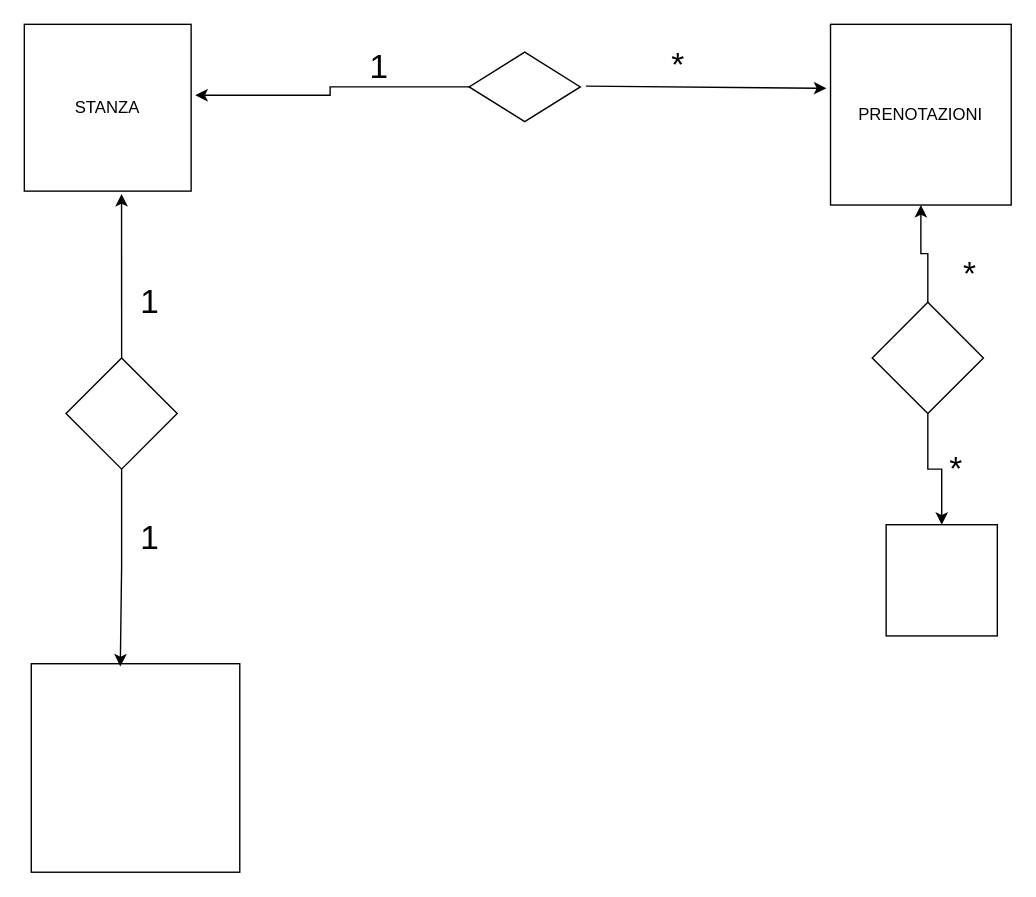
Some shapes in this 1036 by 897 pixel diagram are drawn without their labels. The shapes that lost their labels are listed below. From the top down, each one's box as (x1, y1, x2, y2) in pixels, then its label:
(885, 523, 997, 636): OSPITI
(30, 662, 240, 872): CARATTERISTICHE STANZA
